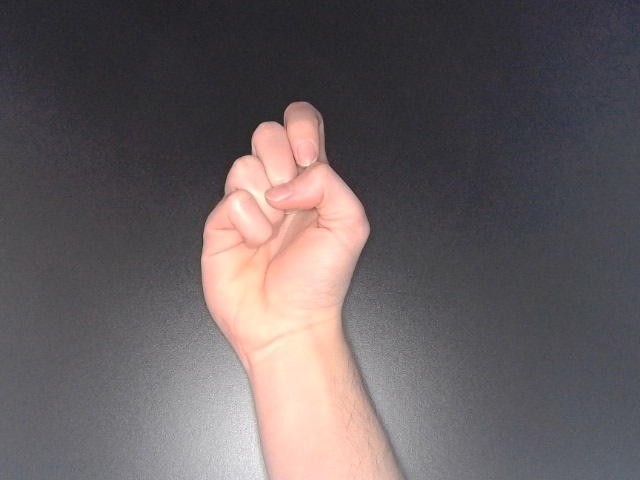s: (192, 96, 376, 371)
